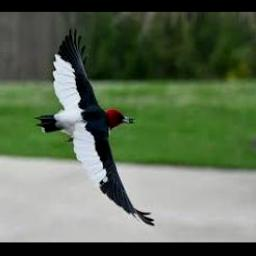Woodpecker: (35, 28, 154, 226)
